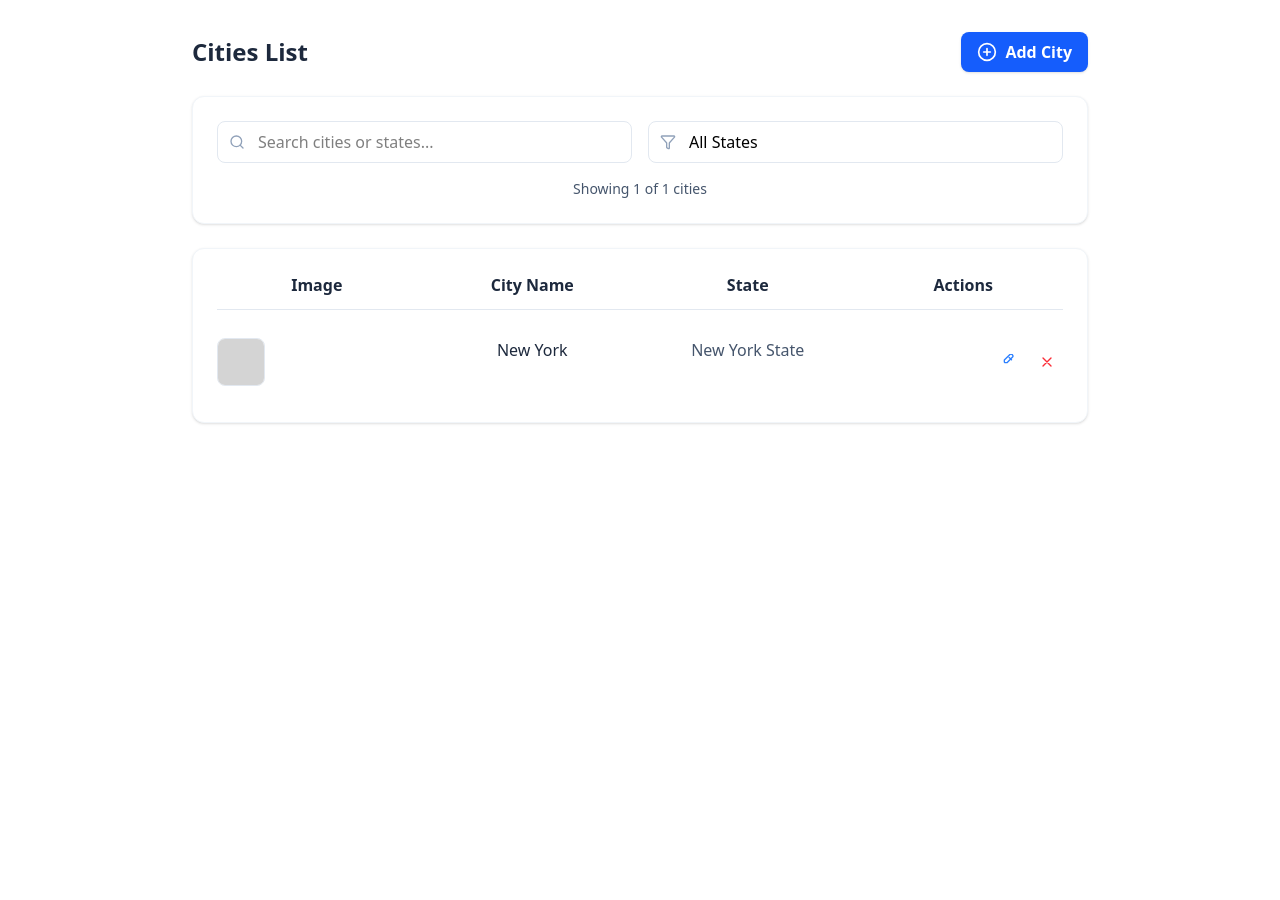
CitySelector › should not delete city when cancelled
Click the 3rd button: point(1047, 362) x1=1031 y1=338 x2=1063 y2=386
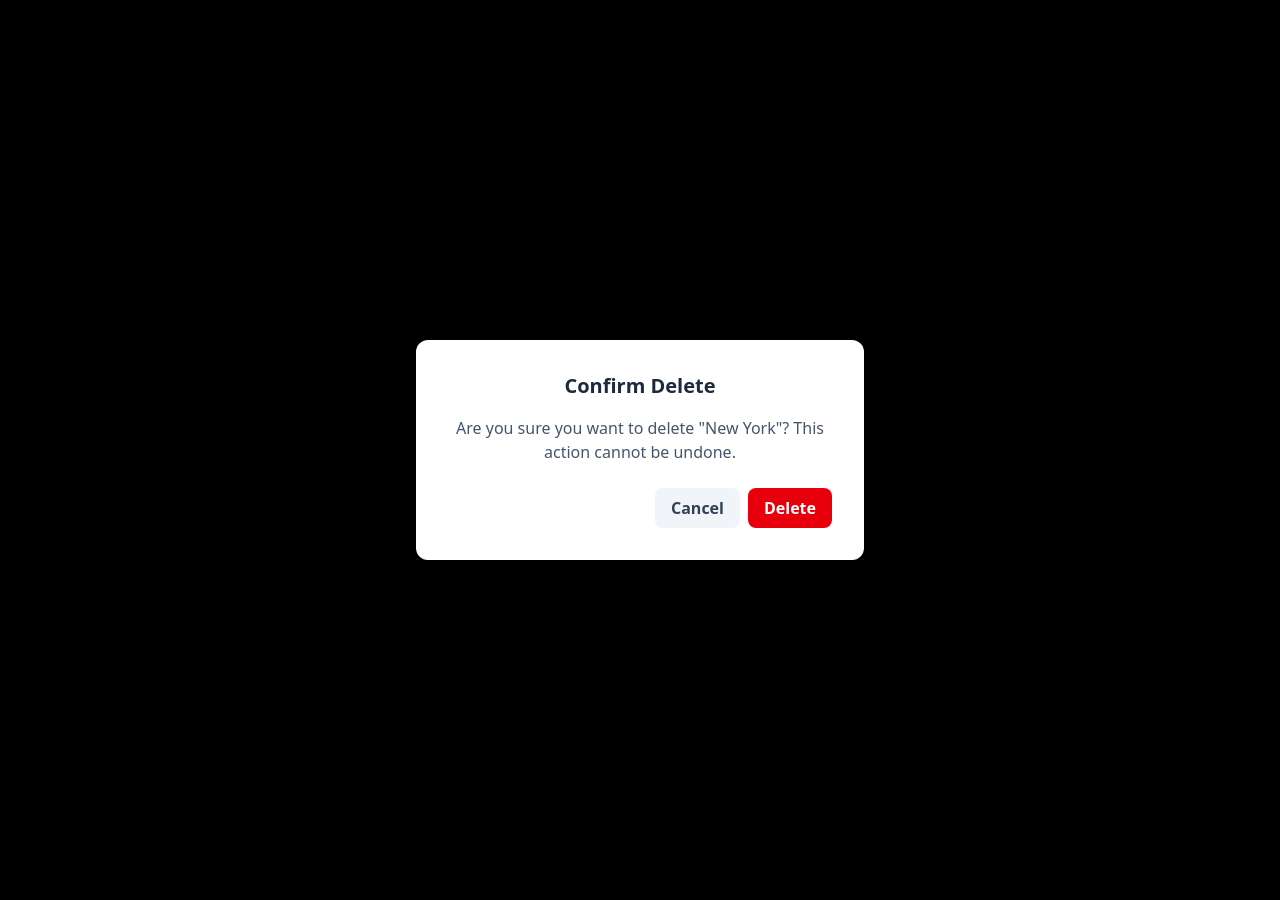
Expected: the heading "Confirm Delete" is shown, x1=564 y1=372 x2=716 y2=399
// Click the cancel button in the modal
Click the button "Cancel": point(697, 508) x1=655 y1=488 x2=740 y2=528
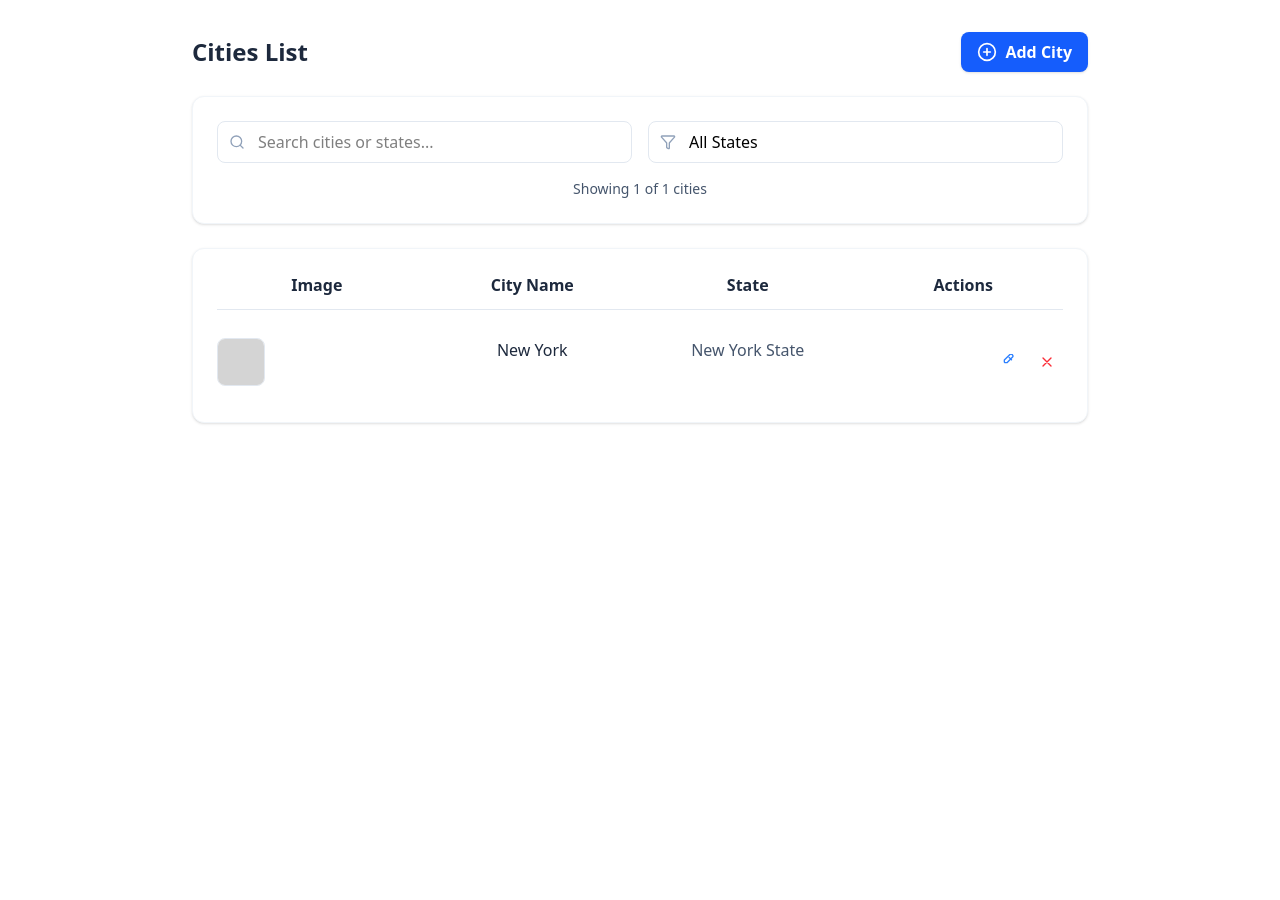
Expected: the heading "Confirm Delete" is gone
